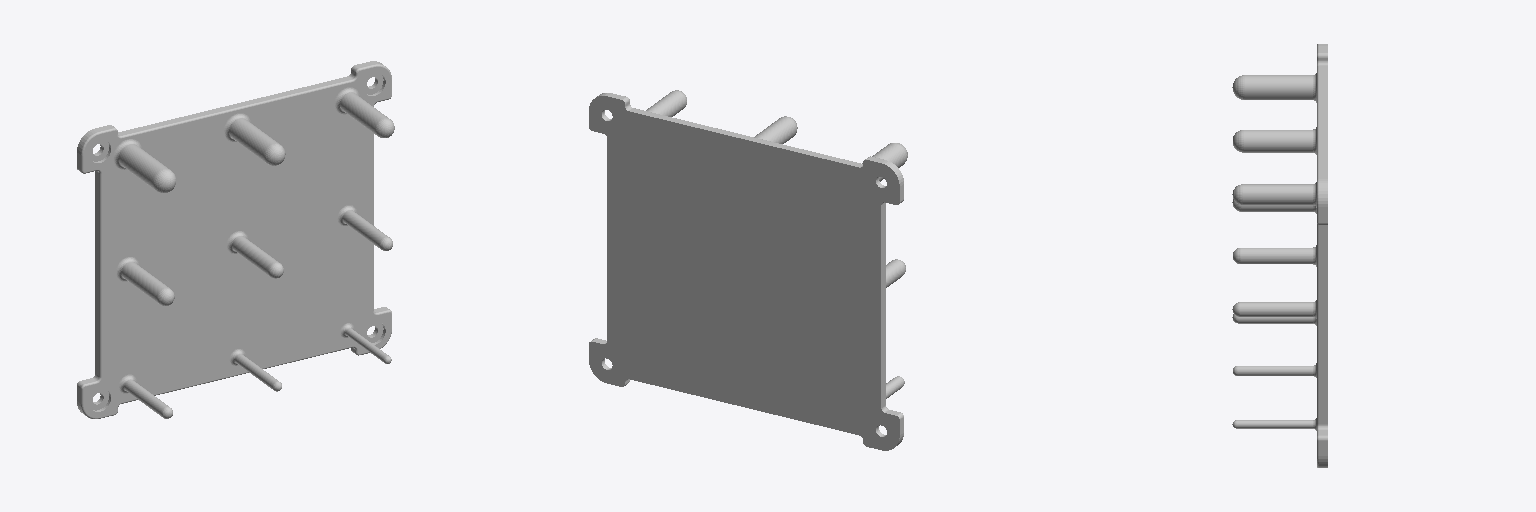
File: spherical_probe.obj
3 views of the same model, side by side, from view 1: azimuth 30°, elevation 25°; view 2: azimuth 150°, elevation 25°; view 3: azimuth 270°, elevation 25° (orthographic).
Parts seen in each view (by area): view 1: 1x_probe_stimulus_VW__S108151-114_Objet; view 2: 1x_probe_stimulus_VW__S108151-114_Objet; view 3: 1x_probe_stimulus_VW__S108151-114_Objet.
Part boxes in pixels (left/top/right/bottom): 1x_probe_stimulus_VW__S108151-114_Objet: left=77, top=61, right=394, bottom=418; 1x_probe_stimulus_VW__S108151-114_Objet: left=589, top=90, right=907, bottom=450; 1x_probe_stimulus_VW__S108151-114_Objet: left=1232, top=44, right=1327, bottom=467.
Bounding box in the file's own units: 0.17 × 0.15 × 0.045.